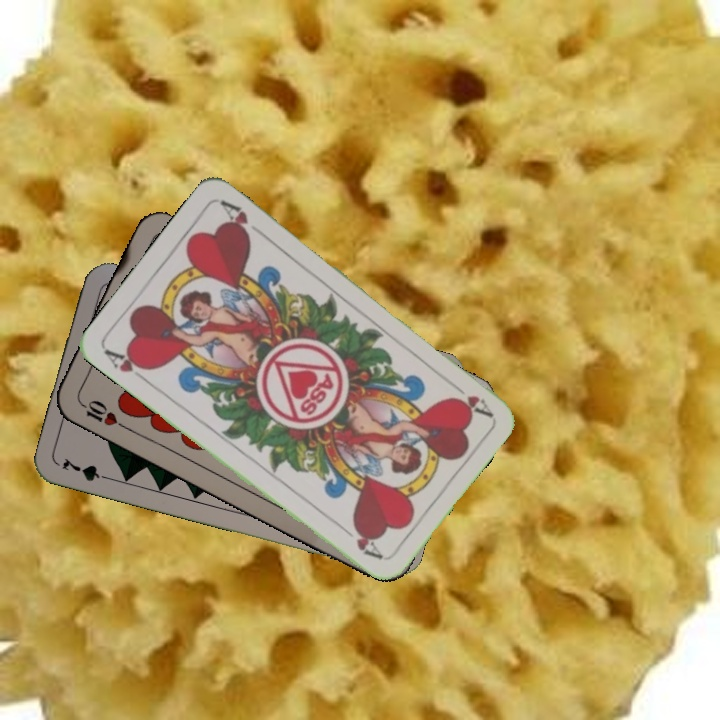G7: (57, 454, 116, 484)
H10: (74, 395, 128, 431)
HA: (100, 345, 153, 386), (445, 376, 494, 420)
